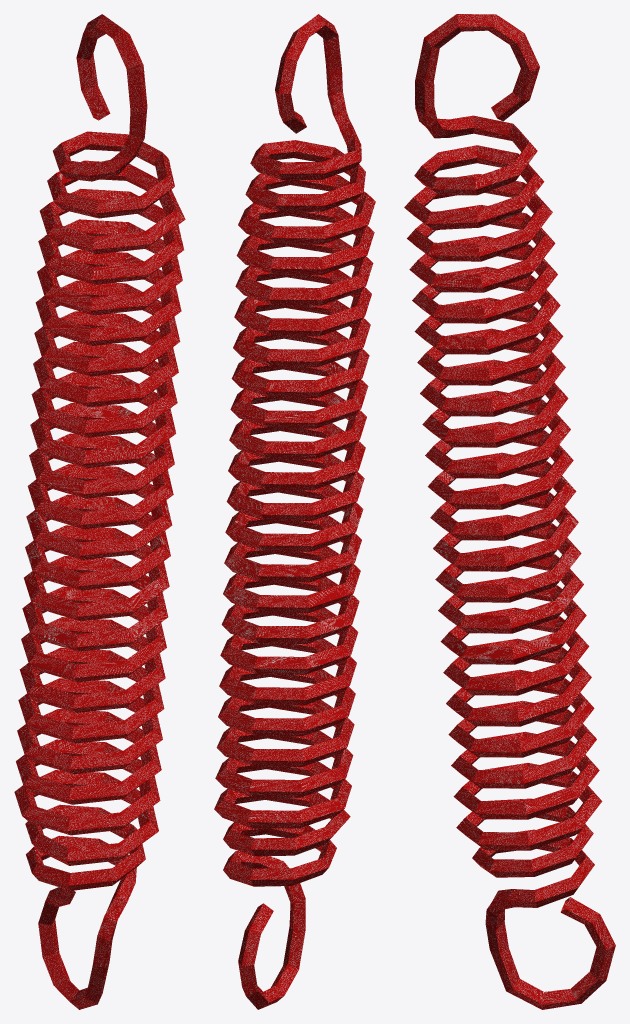
File: original-10.obj
3 views of the same model, side by side, from view 1: azimuth 30°, elevation 25°; view 2: azimuth 150°, elevation 25°; view 3: azimuth 270°, elevation 25° (orthographic). The views are drawn at different scales.
Visible parts, largest first — view 1: Spring01-F1/Spring01-F/mesh10/mesh10-geometry#mesh10-geometry; view 2: Spring01-F1/Spring01-F/mesh10/mesh10-geometry#mesh10-geometry; view 3: Spring01-F1/Spring01-F/mesh10/mesh10-geometry#mesh10-geometry.
Part boxes in pixels (x1,y1,x2,y2): Spring01-F1/Spring01-F/mesh10/mesh10-geometry#mesh10-geometry: (14, 14, 185, 1009); Spring01-F1/Spring01-F/mesh10/mesh10-geometry#mesh10-geometry: (214, 14, 375, 1009); Spring01-F1/Spring01-F/mesh10/mesh10-geometry#mesh10-geometry: (404, 14, 615, 1009).
Bounding box in the file's own units: 0.029 × 0.2156 × 0.0416.
